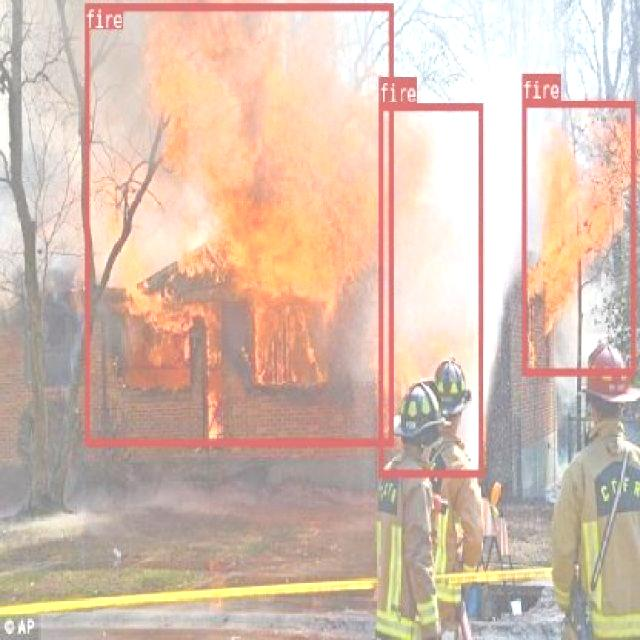fire: (83, 3, 392, 444), (378, 102, 482, 475), (520, 99, 634, 375)
